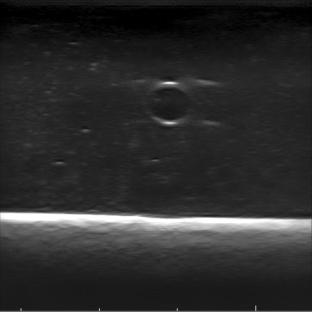vessel: (144, 80, 193, 125)
